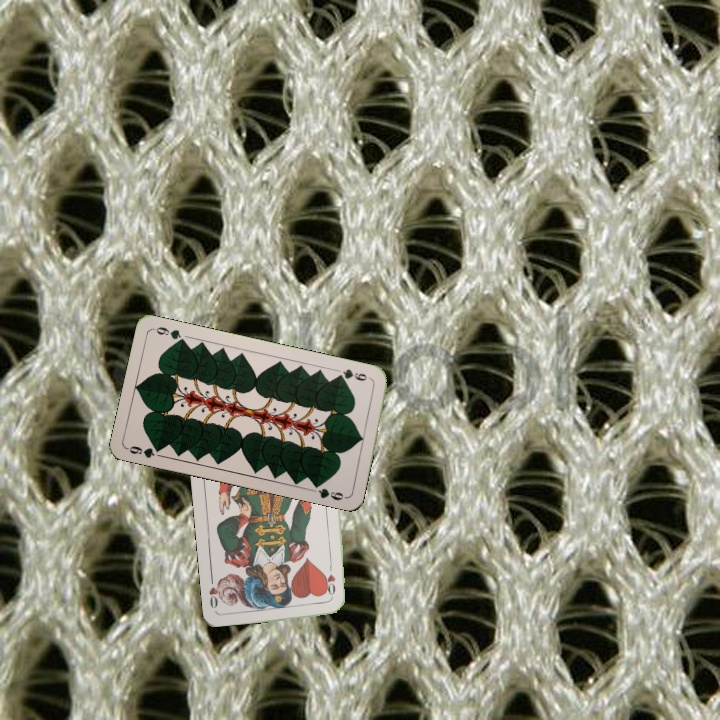G9: (123, 442, 165, 461), (333, 365, 374, 383)
HO: (324, 559, 338, 600)
